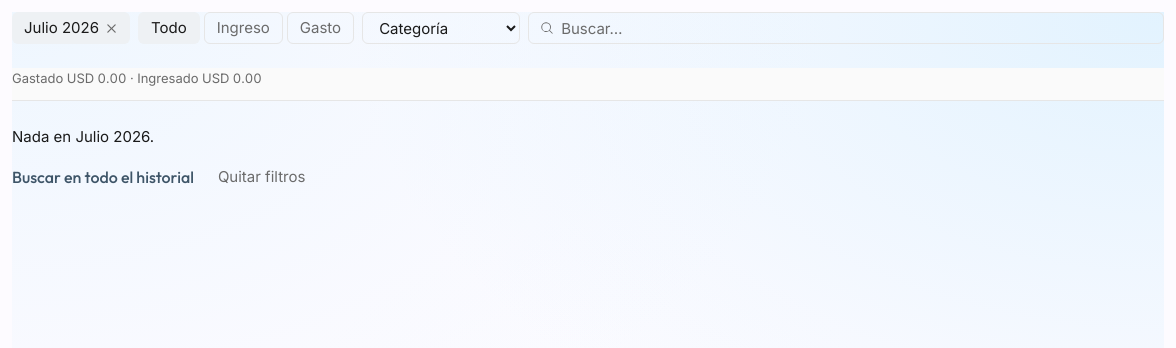
Test case: Historial — Checkpoint IV-F.1: cargando / vacío real / sin resultados › el mensaje de sin-resultados incluye el término de búsqueda y el mes activos
Type "taxi" into the field with placeholder "Buscar…".
click(846, 28); type("taxi")  # box x1=528 y1=12 x2=1164 y2=44
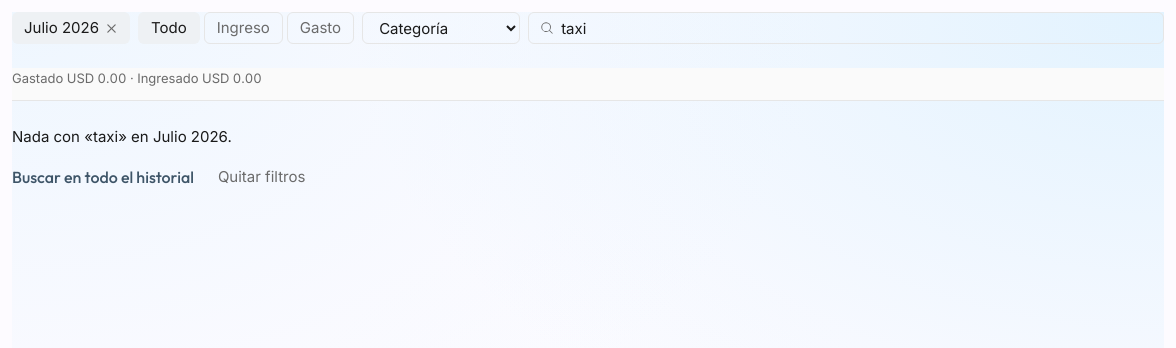
Now the text "Nada con «taxi» en Julio 2026." is shown, box x1=12 y1=125 x2=232 y2=149
